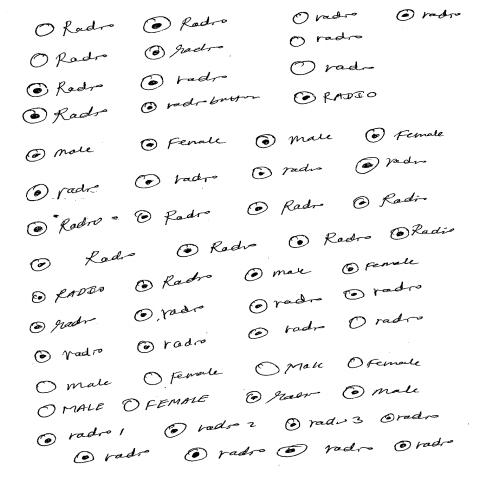Radio Button: (141, 95, 264, 115), (37, 427, 126, 447), (134, 273, 213, 295), (141, 72, 230, 91), (163, 421, 256, 439), (288, 231, 376, 250), (23, 106, 110, 125), (123, 394, 210, 413), (144, 15, 228, 34), (346, 282, 425, 302), (247, 320, 325, 340), (24, 183, 101, 203), (32, 286, 105, 307), (249, 294, 324, 314), (245, 197, 323, 216), (26, 218, 100, 238), (143, 43, 225, 61), (178, 240, 259, 258), (134, 173, 219, 190), (29, 52, 109, 70), (351, 192, 429, 210), (35, 21, 116, 38), (28, 316, 96, 336), (144, 368, 219, 386), (355, 157, 429, 175), (343, 258, 417, 276), (135, 304, 205, 323), (137, 337, 207, 356), (26, 81, 104, 98), (285, 417, 367, 433), (365, 128, 446, 144), (135, 209, 211, 226), (294, 91, 379, 106), (342, 385, 421, 401), (290, 61, 374, 76), (255, 360, 325, 378), (251, 164, 325, 181), (72, 449, 150, 465), (140, 137, 223, 152), (348, 314, 425, 330), (23, 146, 95, 163), (33, 379, 113, 394), (254, 134, 333, 149), (290, 33, 364, 49), (184, 448, 267, 462), (37, 402, 105, 419), (245, 390, 321, 405), (34, 348, 104, 364), (244, 267, 311, 283), (391, 225, 457, 241), (292, 11, 360, 26), (392, 438, 454, 453), (346, 358, 421, 370), (379, 413, 440, 424)
